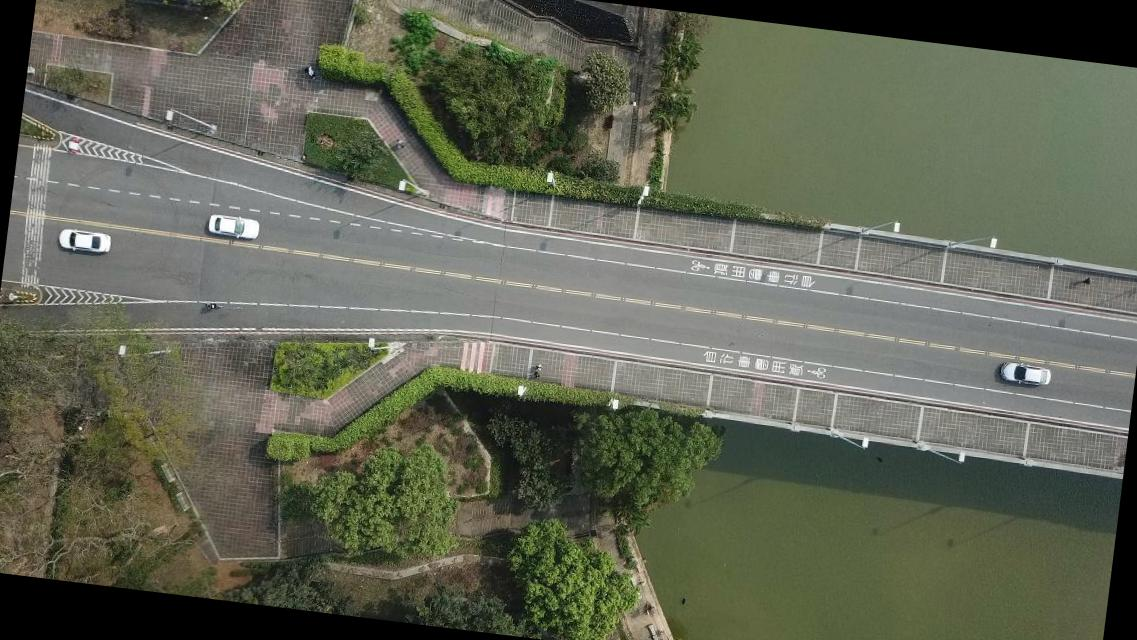vehicle: (56, 226, 113, 256), (206, 212, 260, 242), (999, 360, 1052, 387)
